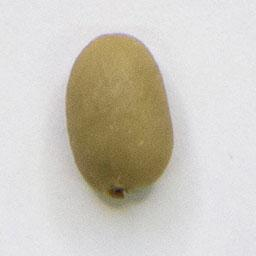premium: (62, 29, 177, 203)
